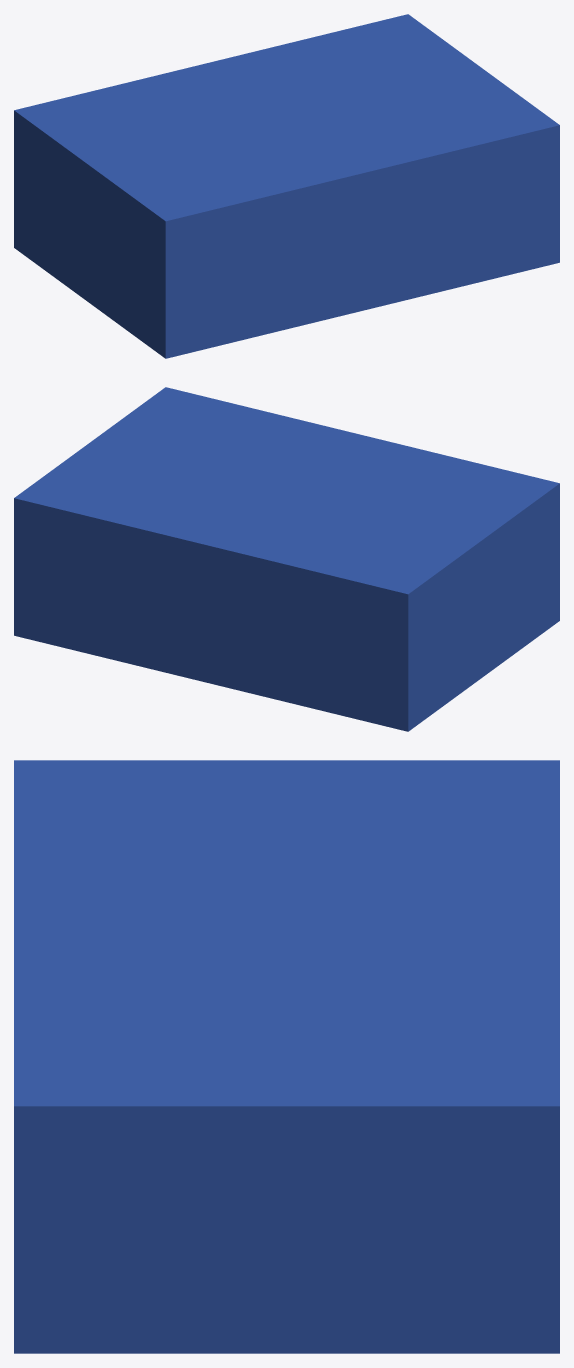
The model's file is inner.dae.
3 renders of one model, top to bottom at view 1: azimuth 30°, elevation 25°; view 2: azimuth 150°, elevation 25°; view 3: azimuth 270°, elevation 25°, orthographic. The views are drawn at different scales.
Parts seen in each view (by area): view 1: 5d237c004dec08173469a4d3; view 2: 5d237c004dec08173469a4d3; view 3: 5d237c004dec08173469a4d3.
Part boxes in pixels (x1,y1,x2,y2): 5d237c004dec08173469a4d3: (14, 14, 559, 358); 5d237c004dec08173469a4d3: (14, 387, 559, 731); 5d237c004dec08173469a4d3: (14, 760, 559, 1353).
Bounding box in the file's own units: 150 × 100 × 50.
